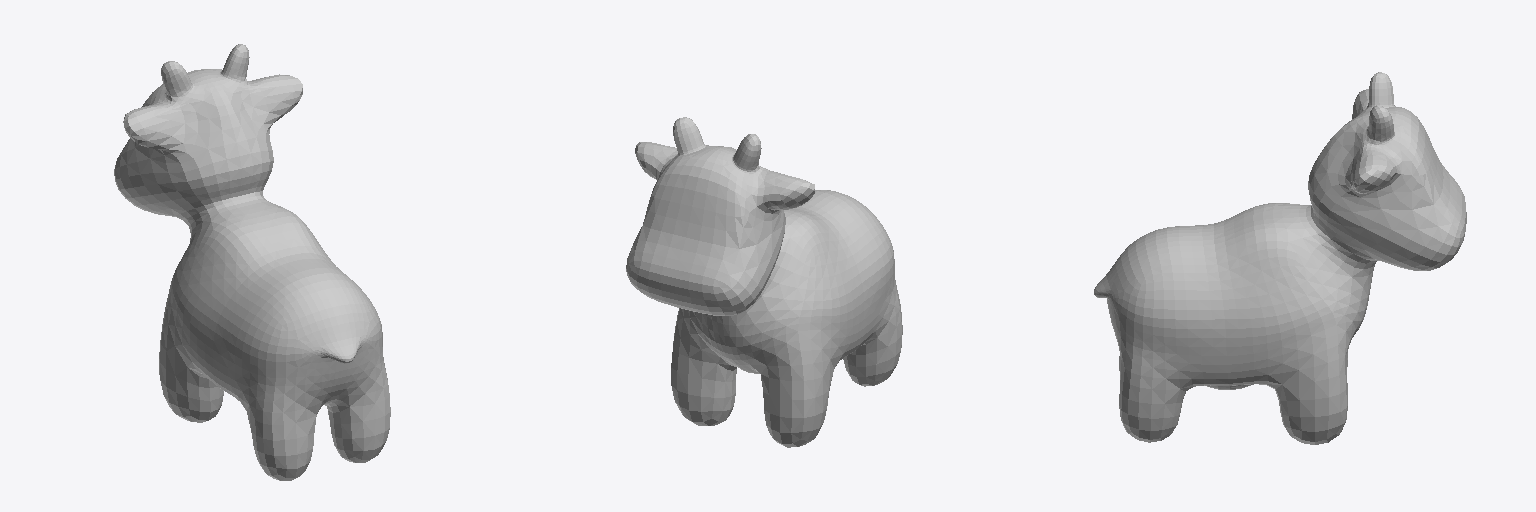
The model's file is spot_quadrangulated.obj.
3 renders of one model, left to right at view 1: azimuth 30°, elevation 25°; view 2: azimuth 150°, elevation 25°; view 3: azimuth 270°, elevation 25°, orthographic.
Size of the model in its own units: 0.9431 by 1.69 by 1.72.